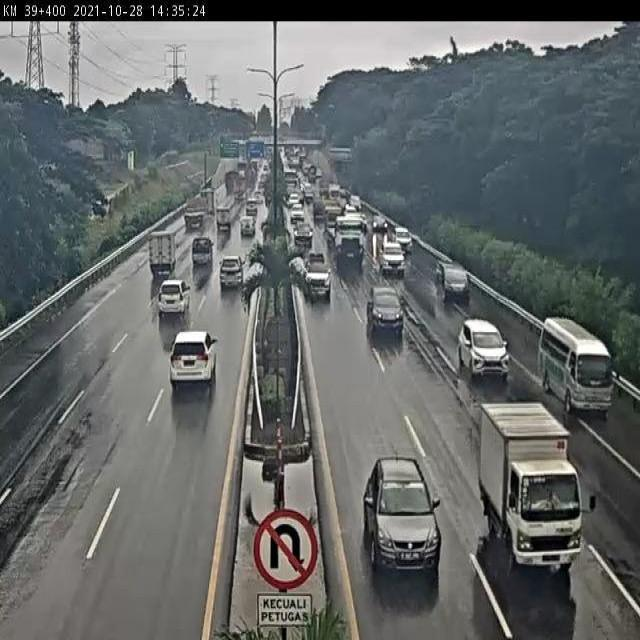car: (360, 452, 445, 581), (457, 318, 511, 382), (169, 325, 220, 391), (366, 280, 406, 340), (433, 256, 473, 305), (304, 256, 334, 301), (158, 277, 190, 316), (217, 251, 245, 295), (380, 240, 406, 279), (190, 235, 214, 269), (291, 221, 317, 251), (391, 223, 415, 255), (236, 212, 258, 237), (371, 210, 390, 238), (289, 200, 306, 224), (243, 196, 260, 216)
truck: (472, 400, 596, 572), (537, 312, 618, 417), (325, 212, 368, 271), (147, 228, 175, 275)
